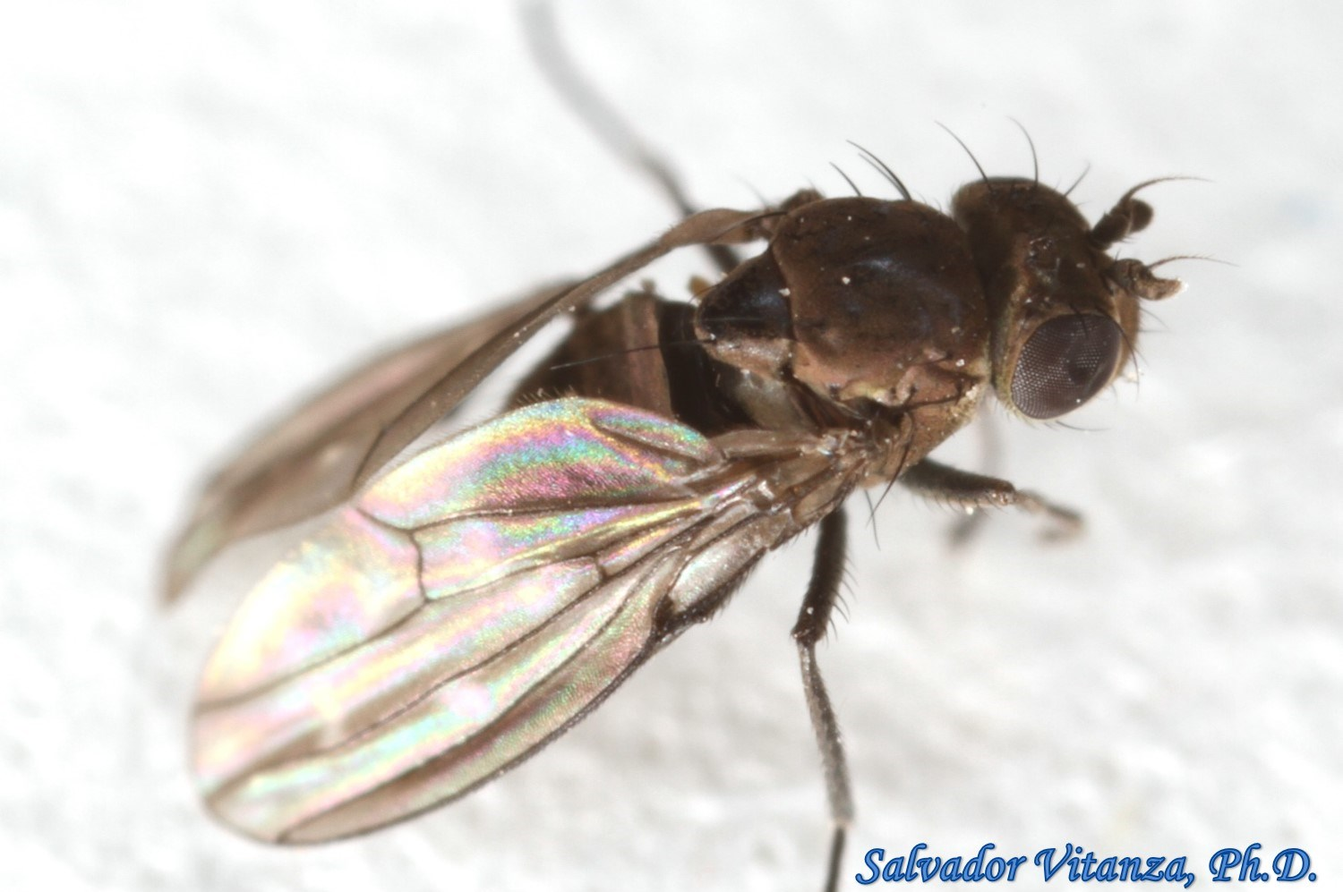Ephydridae: (148, 44, 1191, 872)
